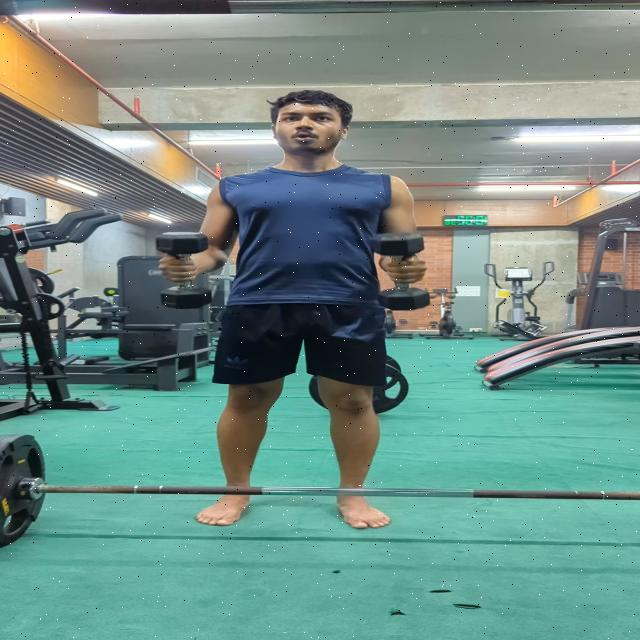Normal_DumbbellBicepCurls: (141, 86, 441, 537)
